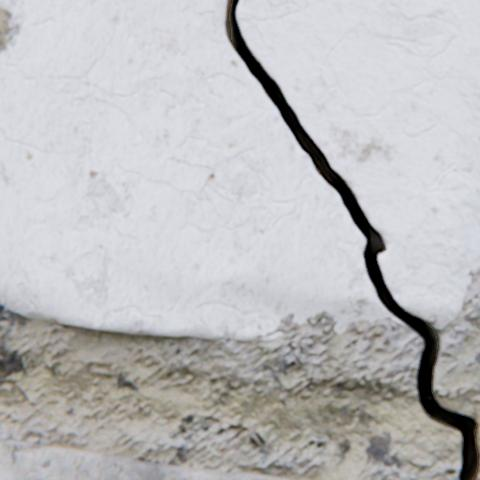broken_brick: (0, 0, 405, 340), (238, 0, 479, 327), (0, 436, 299, 479), (262, 331, 282, 340)
crack: (224, 0, 478, 479), (2, 284, 11, 303)
